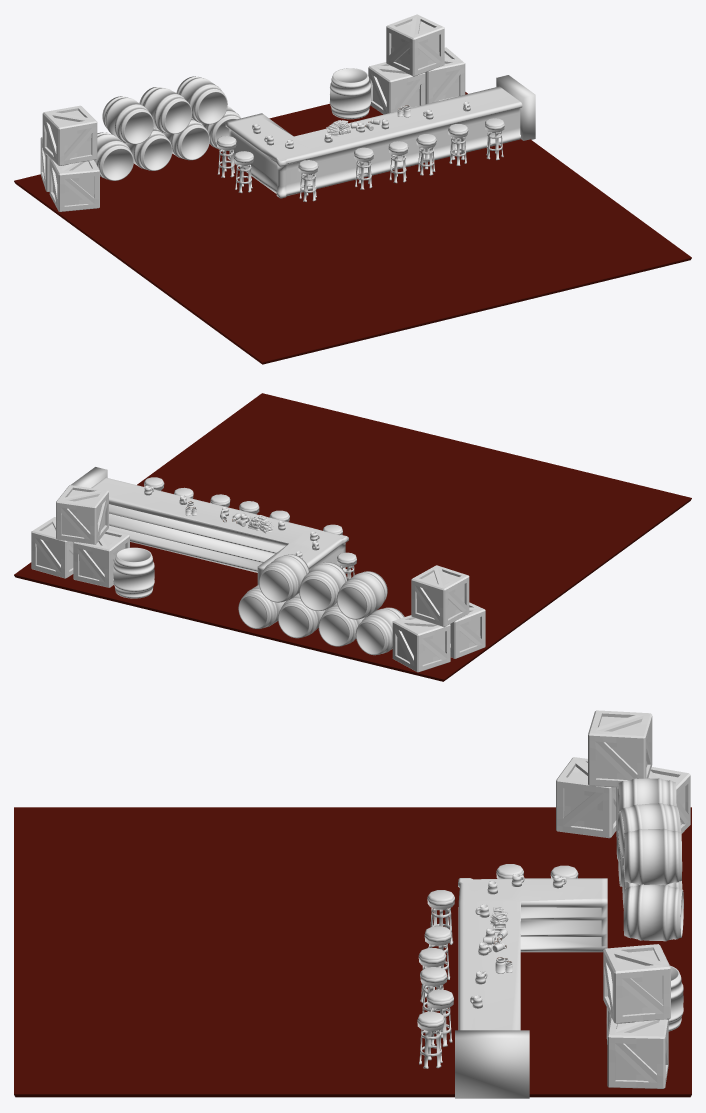
The model's file is fairy-tavern.fbx.
3 views of the same model, one above another, from view 1: azimuth 30°, elevation 25°; view 2: azimuth 150°, elevation 25°; view 3: azimuth 270°, elevation 25° (orthographic). The views are drawn at different scales.
Visible parts, largest first — view 1: Plane, Bar Lowpoly, Crate Lowpoly.002, Crate Lowpoly.005, Crate Lowpoly.003, Crate Lowpoly, Low Poly Fucking Barrel, Low Poly Fucking Barrel.006, Low Poly Fucking Barrel.007, Low Poly Fucking Barrel.003, Crate Lowpoly.001, Low Poly Fucking Barrel.004 (+11 smaller); view 2: Plane, Bar Lowpoly, Crate Lowpoly.005, Crate Lowpoly.002, Crate Lowpoly.004, Crate Lowpoly, Low Poly Fucking Barrel, Crate Lowpoly.001, Low Poly Fucking Barrel.006, Low Poly Fucking Barrel.003, Low Poly Fucking Barrel.007, Low Poly Fucking Barrel.004 (+4 smaller); view 3: Plane, Bar Lowpoly, Crate Lowpoly.002, Crate Lowpoly.005, Crate Lowpoly.001, Crate Lowpoly.003, Low Poly Fucking Barrel.001, Low Poly Fucking Barrel.003, Low Poly Fucking Barrel.007, Low Poly Fucking Barrel.006, Crate Lowpoly.004, Barstool Lowpoly.006 (+5 smaller).
Part boxes in pixels (x1,y1,x2,y2): Plane: (14, 92, 691, 364); Bar Lowpoly: (225, 75, 535, 198); Crate Lowpoly.002: (386, 14, 444, 76); Crate Lowpoly.005: (42, 105, 97, 165); Crate Lowpoly.003: (49, 158, 99, 211); Crate Lowpoly: (368, 62, 425, 114); Low Poly Fucking Barrel: (329, 68, 370, 119); Low Poly Fucking Barrel.006: (102, 96, 153, 144); Low Poly Fucking Barrel.007: (139, 87, 192, 133); Low Poly Fucking Barrel.003: (176, 76, 227, 124); Crate Lowpoly.001: (425, 47, 465, 104); Low Poly Fucking Barrel.004: (94, 132, 133, 180); Plane: (14, 393, 691, 681); Bar Lowpoly: (71, 467, 348, 584); Crate Lowpoly.005: (411, 565, 469, 627); Crate Lowpoly.002: (56, 485, 108, 544); Crate Lowpoly.004: (392, 615, 450, 672); Crate Lowpoly: (73, 530, 129, 587); Low Poly Fucking Barrel: (113, 547, 154, 598); Crate Lowpoly.001: (31, 517, 73, 578); Low Poly Fucking Barrel.006: (336, 571, 387, 619); Low Poly Fucking Barrel.003: (259, 554, 309, 602); Low Poly Fucking Barrel.007: (299, 562, 347, 610); Low Poly Fucking Barrel.004: (355, 607, 404, 655); Plane: (14, 807, 691, 1097); Bar Lowpoly: (455, 878, 607, 1098); Crate Lowpoly.002: (603, 944, 670, 1023); Crate Lowpoly.005: (588, 710, 652, 787); Crate Lowpoly.001: (607, 1015, 668, 1088); Crate Lowpoly.003: (556, 757, 616, 838); Low Poly Fucking Barrel.001: (623, 884, 683, 941); Low Poly Fucking Barrel.003: (624, 828, 682, 885); Low Poly Fucking Barrel.007: (618, 803, 681, 857); Low Poly Fucking Barrel.006: (618, 778, 676, 812); Crate Lowpoly.004: (616, 767, 690, 836); Barstool Lowpoly.006: (417, 1011, 444, 1068).
Bounding box in the file's own units: 2407 × 622 × 2378.
